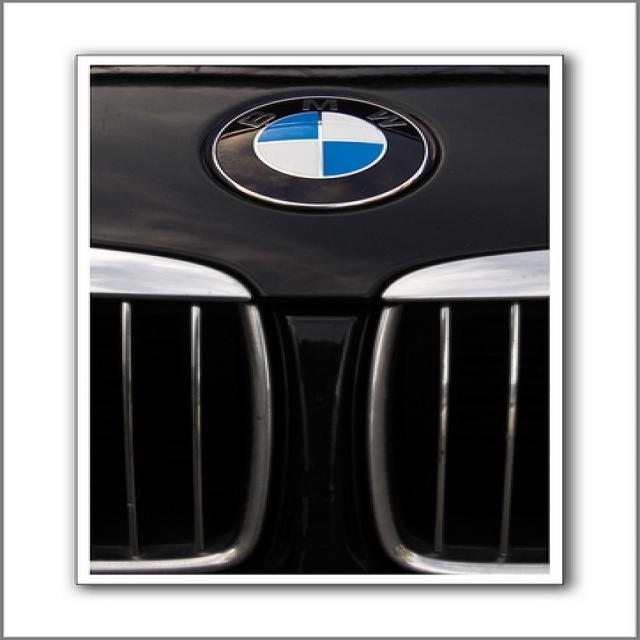bmw: (203, 91, 441, 216)
